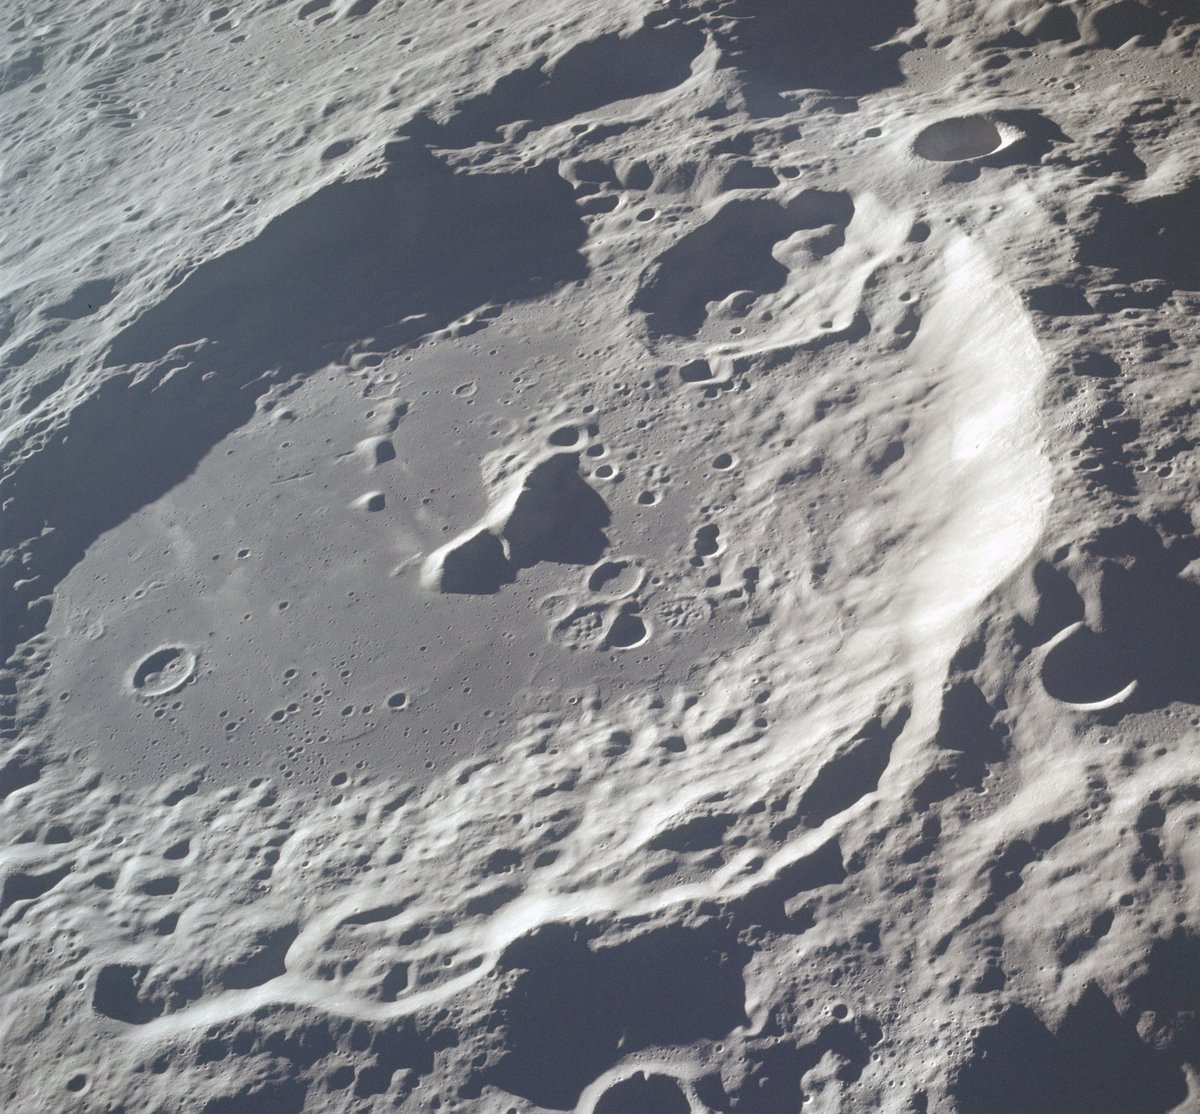crater: (604, 160, 942, 413), (881, 59, 1104, 233), (88, 598, 255, 741), (353, 606, 443, 760)
